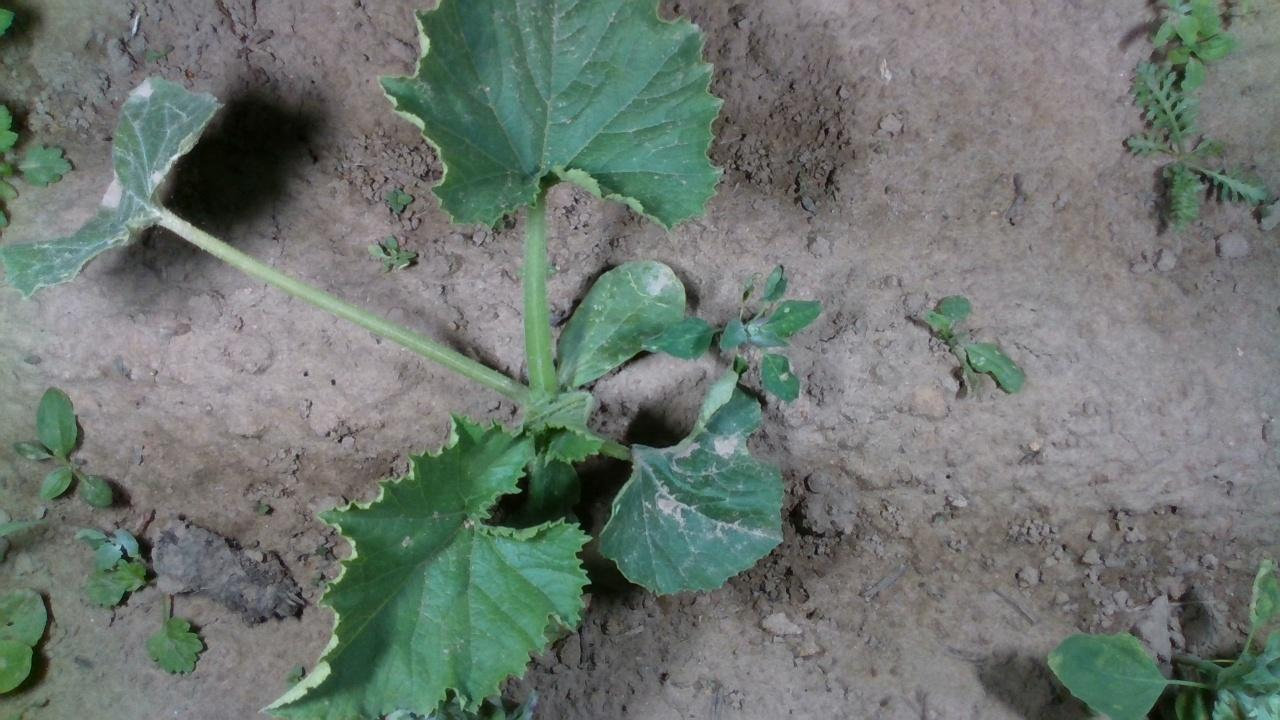weed: (914, 293, 1024, 398), (365, 233, 413, 278), (383, 187, 415, 215)
